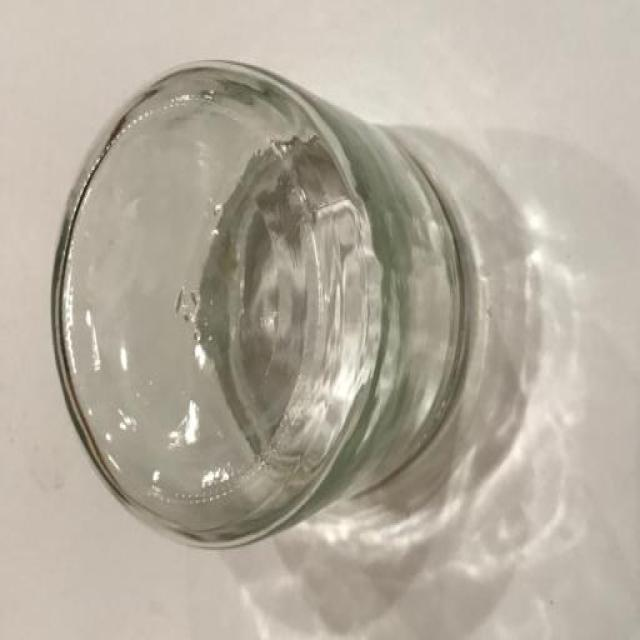Glass: (26, 19, 492, 541)
